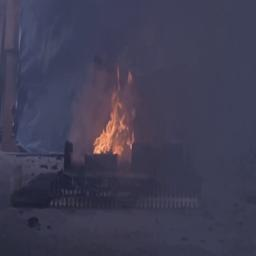fire: (92, 87, 132, 168)
